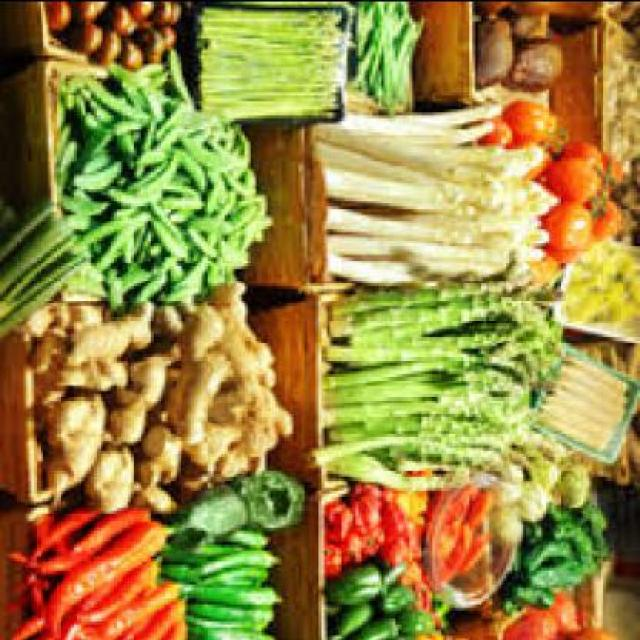BIODEGRADABLE: (68, 74, 194, 218), (174, 119, 272, 279), (324, 149, 558, 216), (205, 6, 350, 111), (77, 184, 211, 296), (46, 520, 172, 637), (329, 281, 569, 333), (330, 196, 548, 250), (15, 503, 156, 569), (330, 344, 545, 387), (333, 264, 521, 313), (330, 387, 538, 430), (323, 116, 494, 166), (327, 364, 521, 407), (3, 216, 80, 324), (330, 330, 572, 364), (543, 353, 632, 444), (313, 430, 541, 464), (2, 247, 92, 333), (338, 248, 536, 284), (352, 1, 428, 94), (46, 390, 108, 492), (327, 413, 531, 441), (170, 478, 253, 544), (108, 142, 194, 202), (86, 549, 160, 617), (174, 350, 228, 441), (404, 204, 548, 238), (353, 108, 504, 140), (325, 170, 466, 204), (110, 144, 188, 204), (353, 316, 538, 341), (327, 228, 515, 252), (233, 466, 307, 526), (364, 95, 514, 122), (387, 22, 430, 112), (120, 575, 182, 637), (60, 575, 122, 637), (578, 251, 639, 312), (136, 416, 189, 486), (3, 197, 60, 261), (88, 441, 140, 510), (328, 455, 466, 480), (540, 153, 614, 199), (38, 503, 102, 555), (506, 34, 566, 89), (615, 31, 639, 167), (250, 381, 302, 441), (478, 8, 520, 82), (77, 202, 151, 244), (218, 282, 262, 352), (106, 302, 160, 358), (176, 302, 230, 358), (509, 99, 566, 152), (330, 552, 390, 600), (230, 333, 282, 387), (113, 252, 165, 305), (554, 514, 603, 568), (566, 140, 626, 182), (190, 418, 244, 464), (196, 546, 284, 574), (94, 71, 151, 114), (141, 592, 194, 638), (548, 196, 601, 242), (108, 380, 150, 438), (63, 353, 131, 387), (526, 529, 583, 569), (518, 1, 608, 25), (216, 376, 262, 422), (387, 489, 418, 557), (102, 213, 142, 265), (142, 347, 176, 407), (503, 603, 563, 637), (96, 594, 142, 638), (494, 142, 552, 176), (151, 210, 191, 259), (74, 296, 108, 353), (168, 560, 264, 580), (332, 597, 378, 637), (196, 583, 287, 603), (392, 17, 412, 103), (554, 582, 586, 635), (216, 438, 256, 480), (450, 521, 478, 581), (188, 126, 230, 166), (356, 478, 390, 527), (80, 122, 117, 166), (154, 99, 194, 139), (77, 160, 131, 188), (32, 330, 72, 367), (529, 444, 566, 484), (193, 620, 279, 637), (196, 600, 282, 617), (136, 270, 179, 304), (242, 416, 282, 452), (560, 458, 594, 500), (378, 446, 520, 456), (384, 1, 398, 102), (176, 150, 213, 188), (359, 32, 384, 88), (594, 193, 628, 233), (543, 236, 589, 264), (174, 43, 191, 117), (32, 299, 72, 330), (159, 546, 219, 566), (199, 534, 259, 554), (362, 608, 402, 638), (384, 577, 421, 609), (487, 114, 521, 148), (524, 480, 558, 514), (399, 532, 423, 580), (224, 526, 274, 549), (538, 244, 568, 282), (46, 512, 74, 552), (193, 612, 273, 626), (244, 208, 276, 242), (512, 577, 558, 600), (159, 302, 190, 336), (77, 17, 108, 51), (402, 603, 436, 634), (376, 557, 412, 586), (509, 9, 549, 34), (472, 489, 497, 529), (62, 137, 82, 186), (532, 566, 580, 586), (472, 526, 496, 566), (100, 28, 128, 62), (46, 364, 71, 401), (48, 2, 82, 29), (569, 620, 623, 637), (331, 500, 355, 538), (358, 1, 372, 65), (62, 111, 80, 160), (20, 609, 51, 637), (580, 501, 612, 528), (327, 538, 350, 574), (95, 125, 119, 156), (31, 580, 54, 612), (114, 2, 141, 29), (146, 23, 166, 57), (224, 208, 258, 228), (239, 122, 256, 162), (111, 117, 151, 134), (594, 518, 612, 554), (362, 524, 389, 548), (54, 83, 77, 111), (128, 219, 144, 259), (77, 2, 112, 20), (344, 526, 364, 557), (449, 518, 466, 554), (555, 499, 580, 523), (420, 574, 438, 606), (474, 1, 518, 14), (156, 2, 187, 20), (171, 614, 194, 638), (148, 54, 170, 77), (130, 38, 148, 65), (242, 166, 256, 200), (503, 592, 526, 612), (245, 188, 268, 208), (529, 518, 546, 544), (131, 1, 157, 14), (458, 492, 472, 516), (80, 620, 97, 637), (74, 74, 91, 91), (156, 74, 173, 91), (166, 23, 180, 43), (196, 126, 216, 140)
